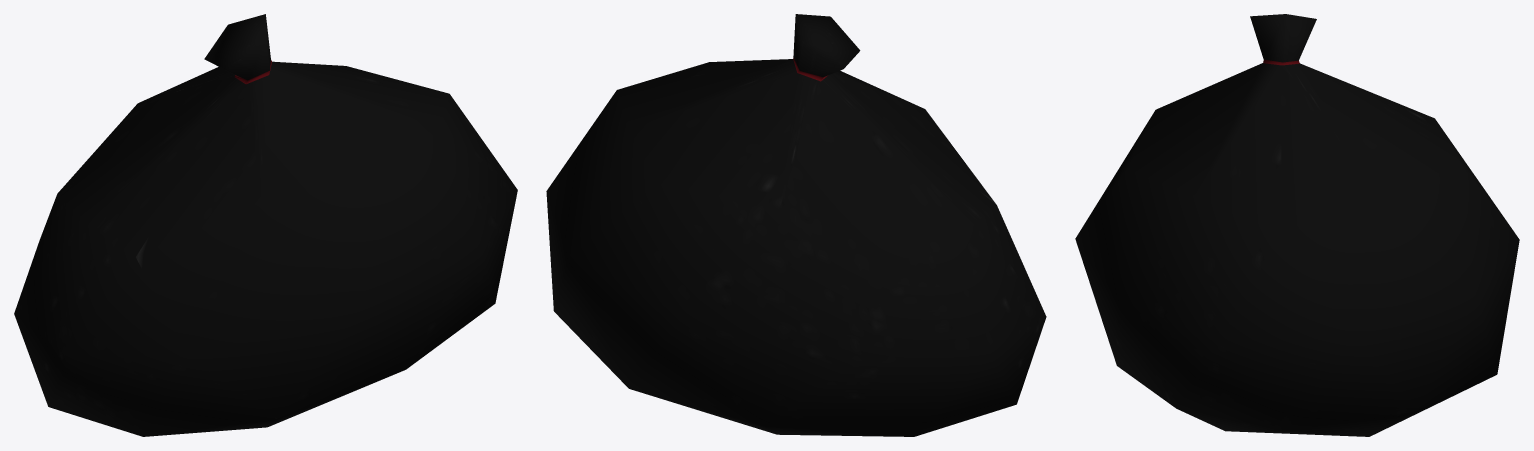
File: trash_bag.fbx
The picture shows the model from 3 angles, left to right: view 1: azimuth 30°, elevation 25°; view 2: azimuth 150°, elevation 25°; view 3: azimuth 270°, elevation 25°; orthographic projection. The views are drawn at different scales.
Visible parts, largest first — view 1: TrashBag_2.001; view 2: TrashBag_2.001; view 3: TrashBag_2.001.
Part boxes in pixels (x1,y1,x2,y2): TrashBag_2.001: (14, 14, 517, 436); TrashBag_2.001: (546, 14, 1046, 436); TrashBag_2.001: (1075, 14, 1519, 436).
Bounding box in the file's own units: 135 × 108 × 113.
